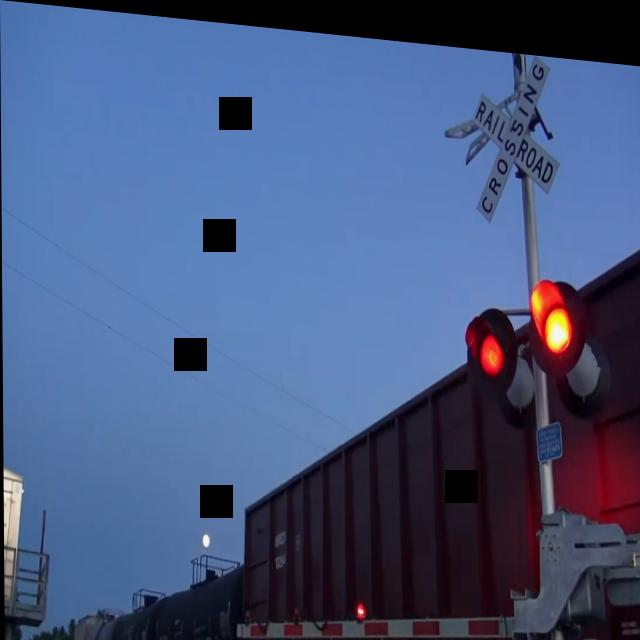gondola: (224, 116, 640, 640)
tank: (144, 531, 244, 640)
